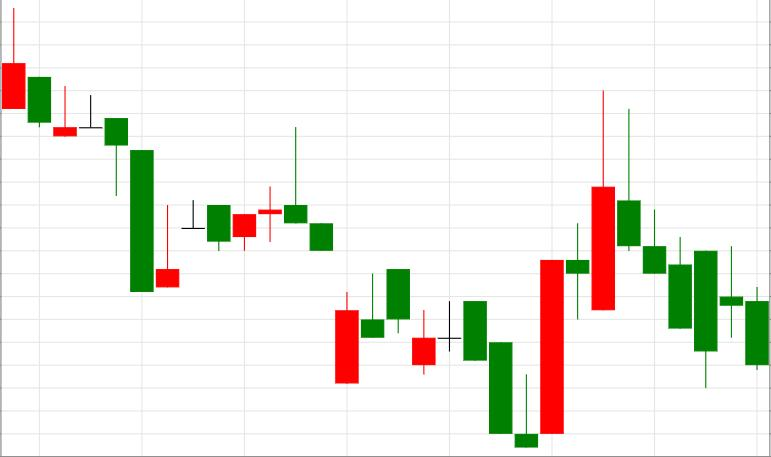morning_star_rise: (386, 259, 563, 447)
